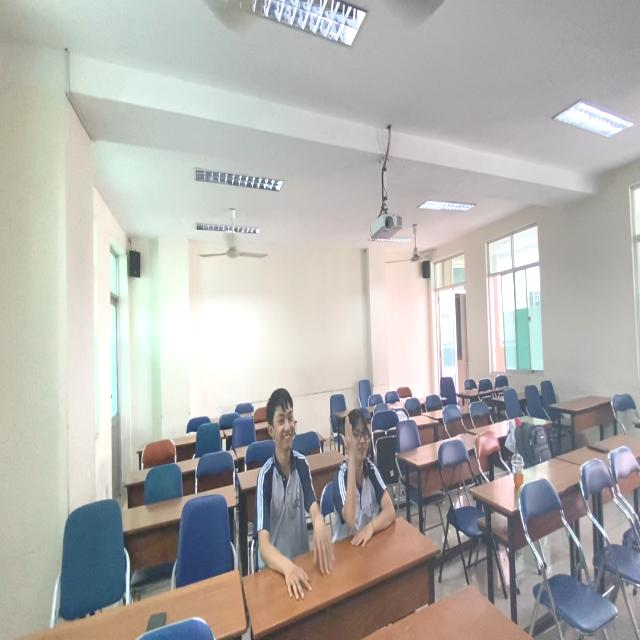raise_hand: (332, 395, 399, 561)
